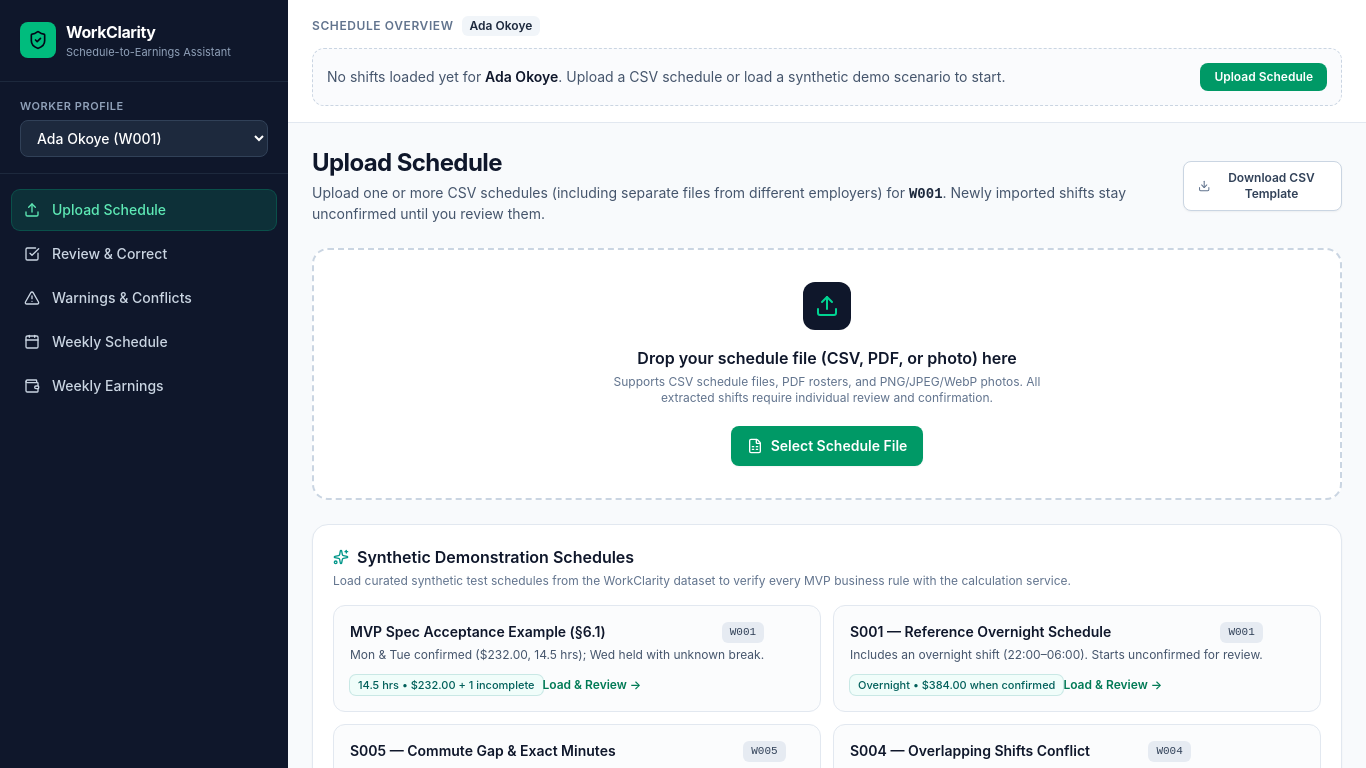
it: AI Extraction Frontend Integration & Safeguards › preserves existing loaded schedule when AI extraction fails
Later steps or results of the test are not shown.
Step 1. Click the button "MVP Spec Acceptance Example" → (577, 658), box x1=333 y1=605 x2=821 y2=712
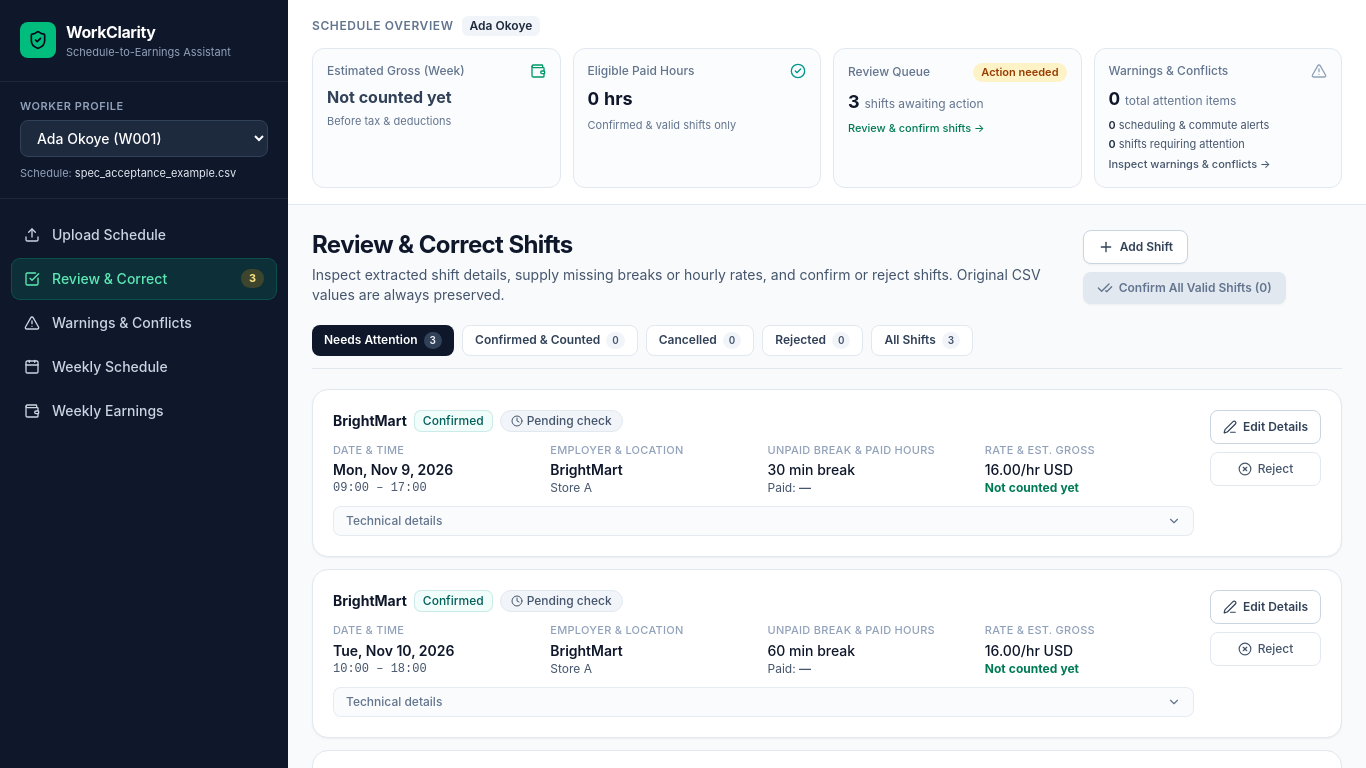
Now the heading "Review & Correct Shifts" is shown, box x1=312 y1=230 x2=573 y2=258
Step 2. Click the link "Upload Schedule" → (95, 234), box x1=24 y1=226 x2=166 y2=242
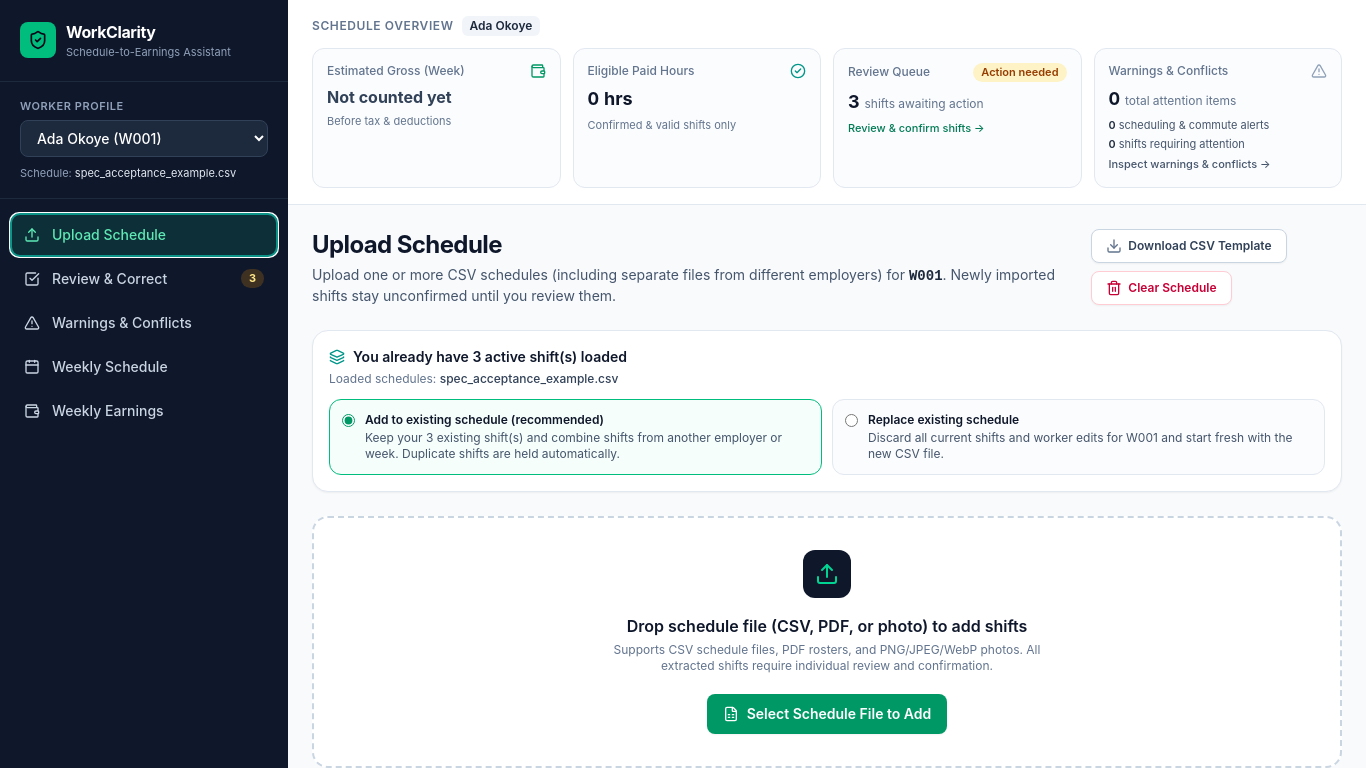
Now the text "You already have 3 active shift(s) loaded" is shown, box x1=353 y1=346 x2=627 y2=366
